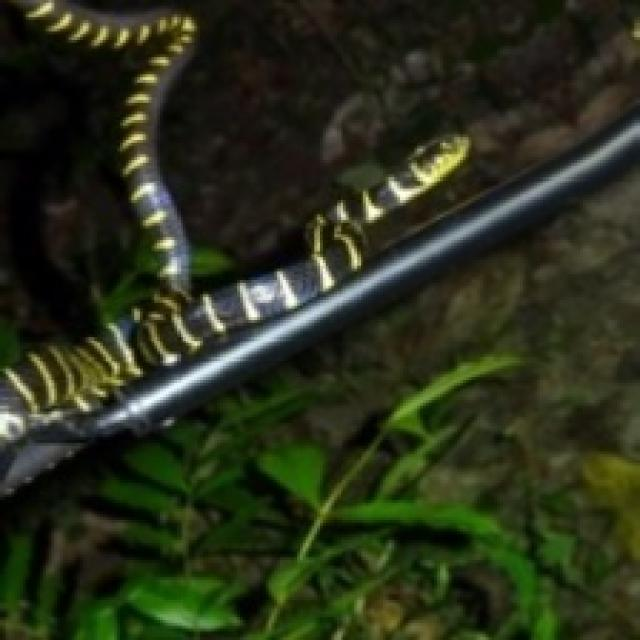mangrove cat snake: (0, 1, 470, 461)
